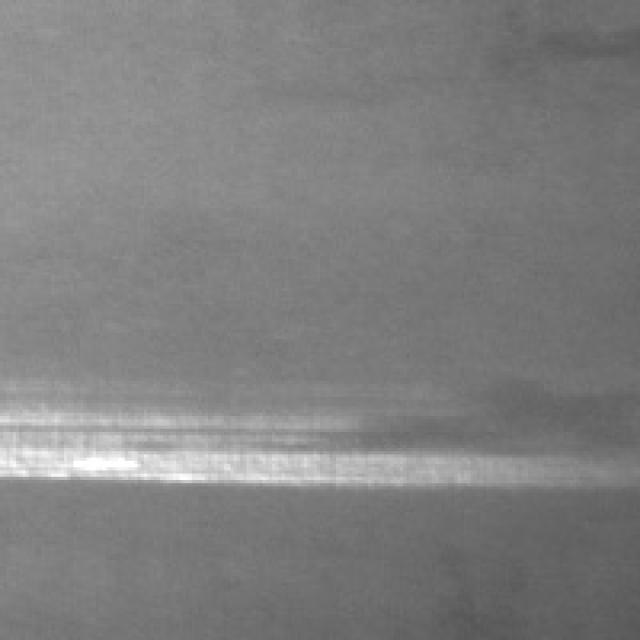scratches: (0, 378, 563, 483)
